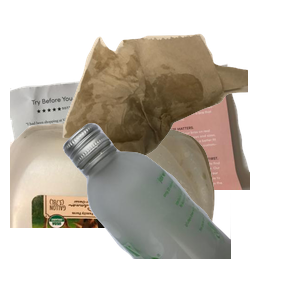glass: (60, 120, 300, 300)
paper: (10, 61, 250, 241)
plastic: (10, 120, 220, 300)
trash: (60, 31, 300, 189)
